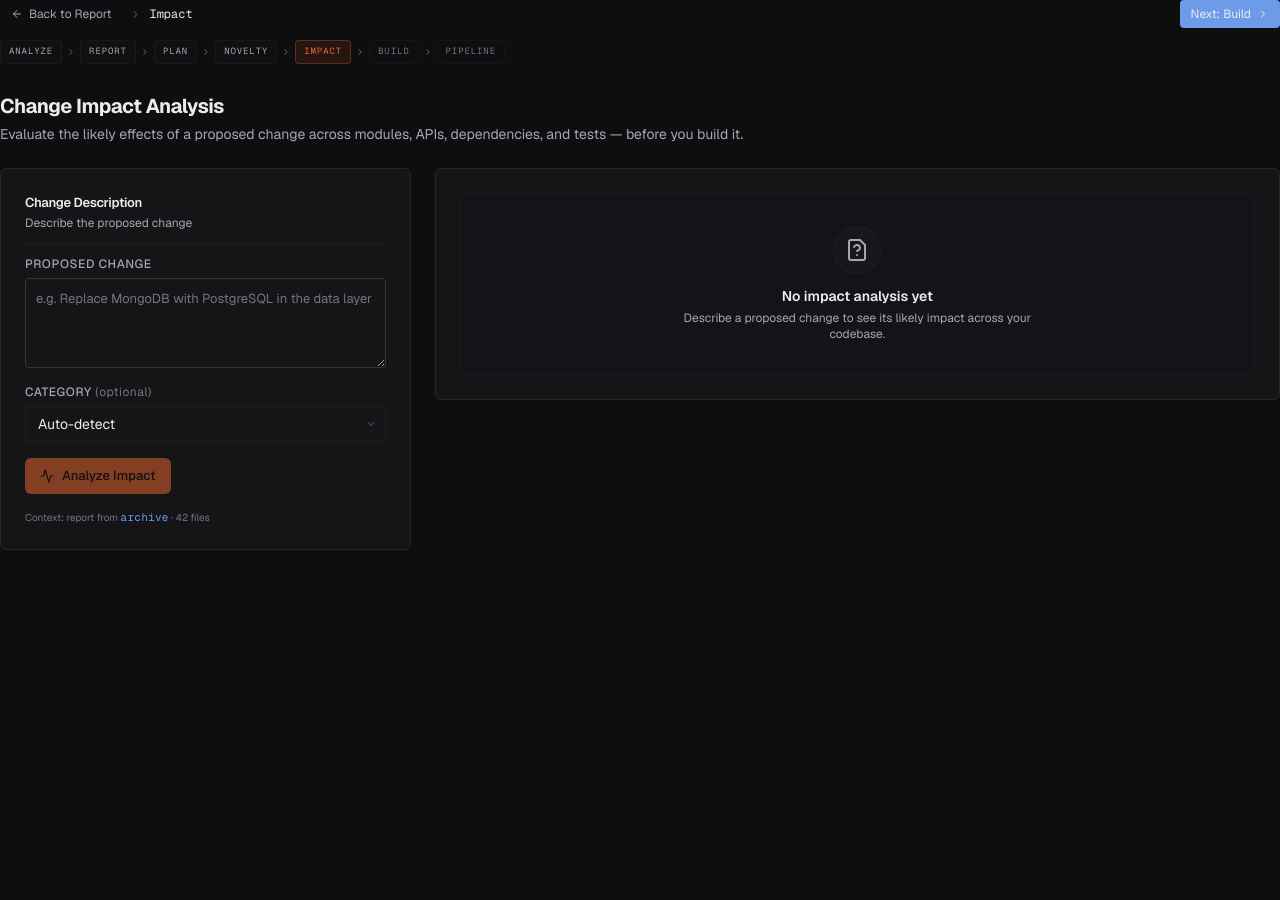
Scenario: Impact workflow › renders affected modules and evidence
The width and height of the screenshot is (1280, 900).
Type "Replace MongoDB with PostgreSQL" into the text box labelled "Proposed Change" at point(205, 322), box [25,278,386,368]
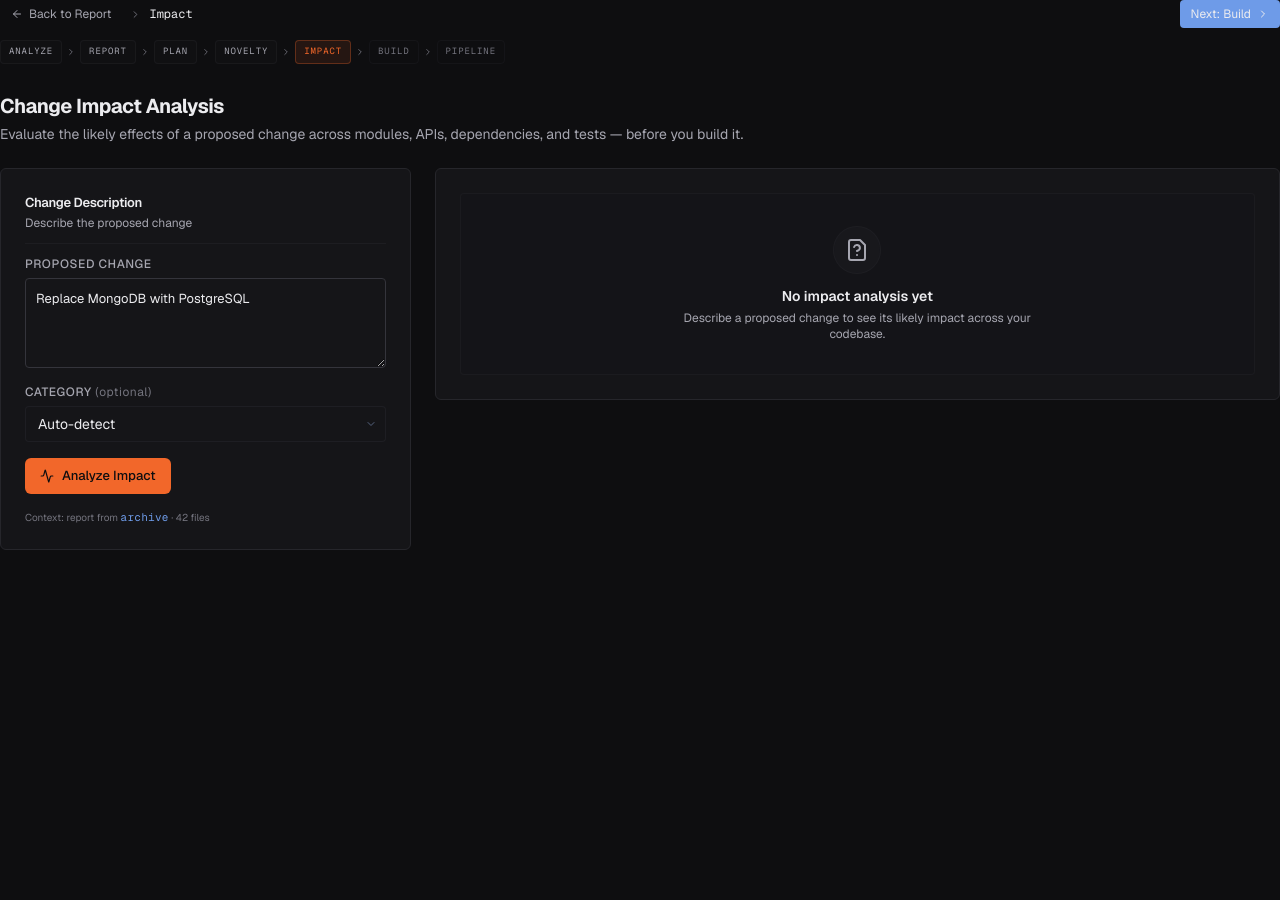
Click the button "Analyze Impact" at point(98, 476), box [25,458,170,494]
(page scrolled)
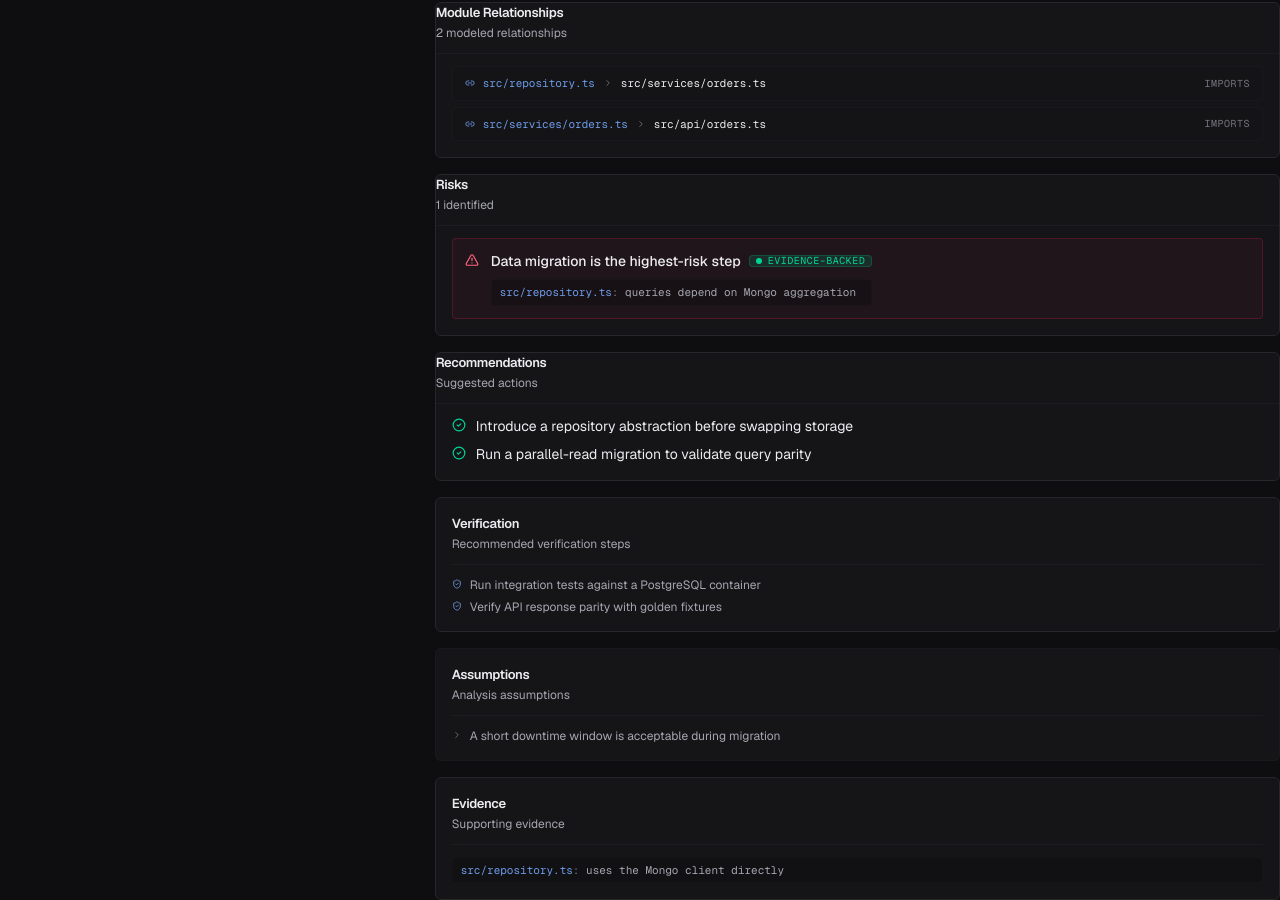
Expected: the text "uses the Mongo client directly" is shown, [586,862,784,876]
